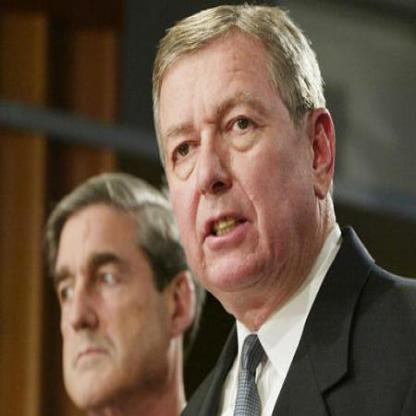face: (149, 12, 313, 304), (1, 1, 2, 3)
